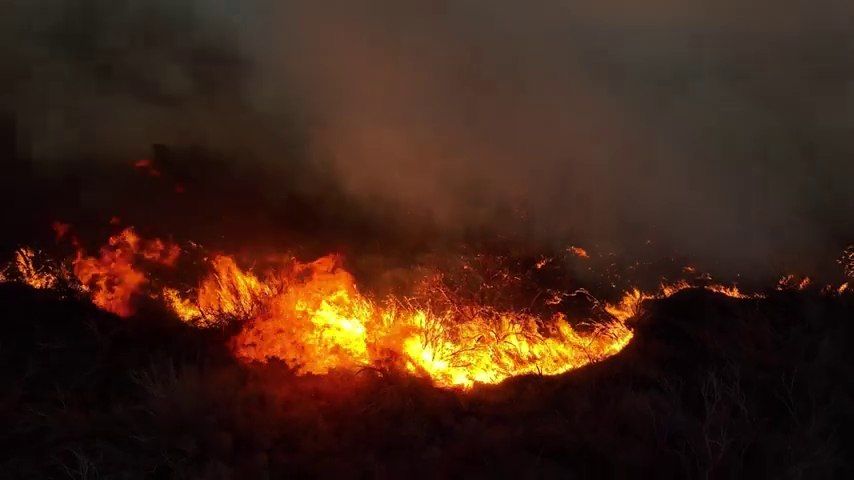forest_fire: (12, 228, 694, 387), (697, 285, 754, 297)
